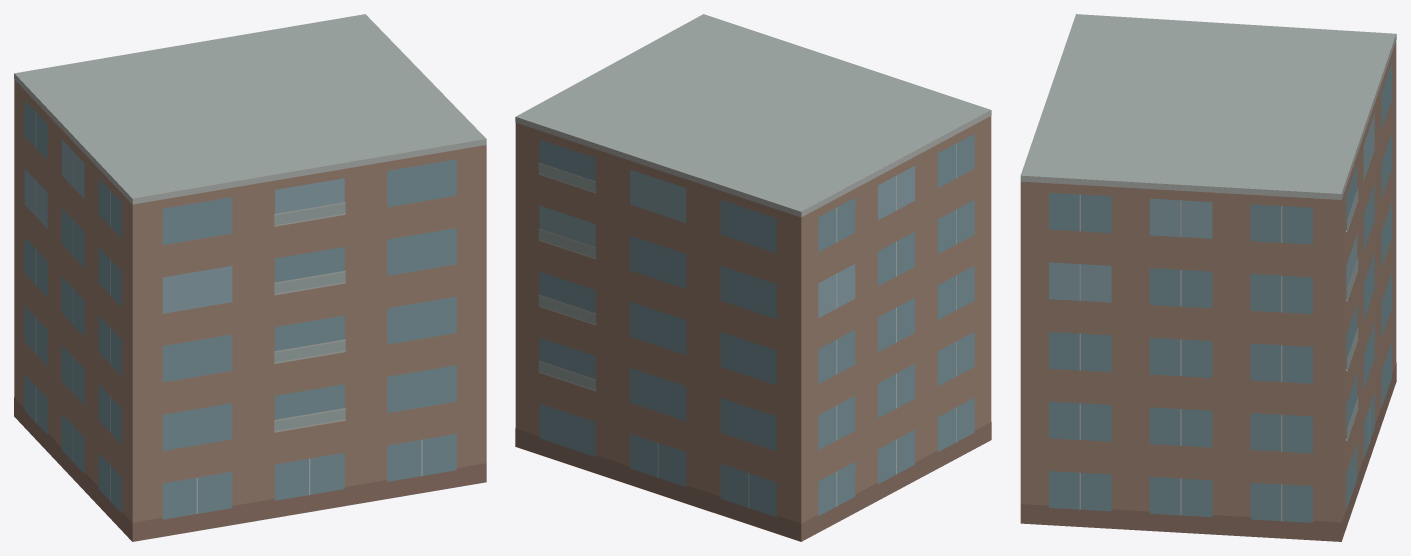
File: survey-upis-32755767.glb
The picture shows the model from 3 angles, left to right: view 1: azimuth 30°, elevation 25°; view 2: azimuth 150°, elevation 25°; view 3: azimuth 270°, elevation 25°; orthographic projection. The views are drawn at different scales.
Visible parts, largest first — view 1: survey-upis-32755767.tmp; view 2: survey-upis-32755767.tmp; view 3: survey-upis-32755767.tmp.
Part boxes in pixels (x1,y1,x2,y2): survey-upis-32755767.tmp: (14, 14, 486, 541); survey-upis-32755767.tmp: (515, 14, 991, 541); survey-upis-32755767.tmp: (1020, 14, 1396, 541).
Size of the model in its own units: 15.77 by 14.2 by 13.92.
